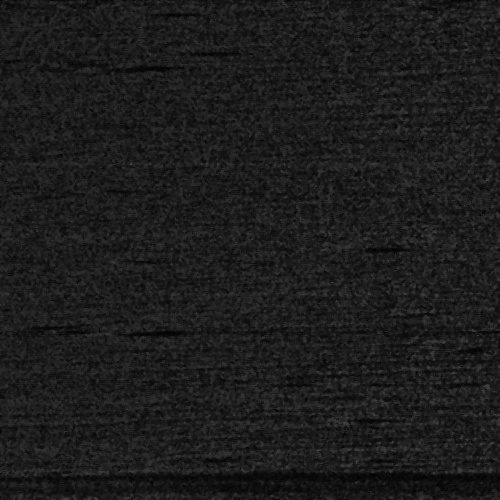object: (90, 62, 131, 67), (317, 243, 358, 248), (323, 416, 364, 419)
shadow: (110, 62, 185, 67), (337, 243, 384, 248), (344, 416, 394, 419)
